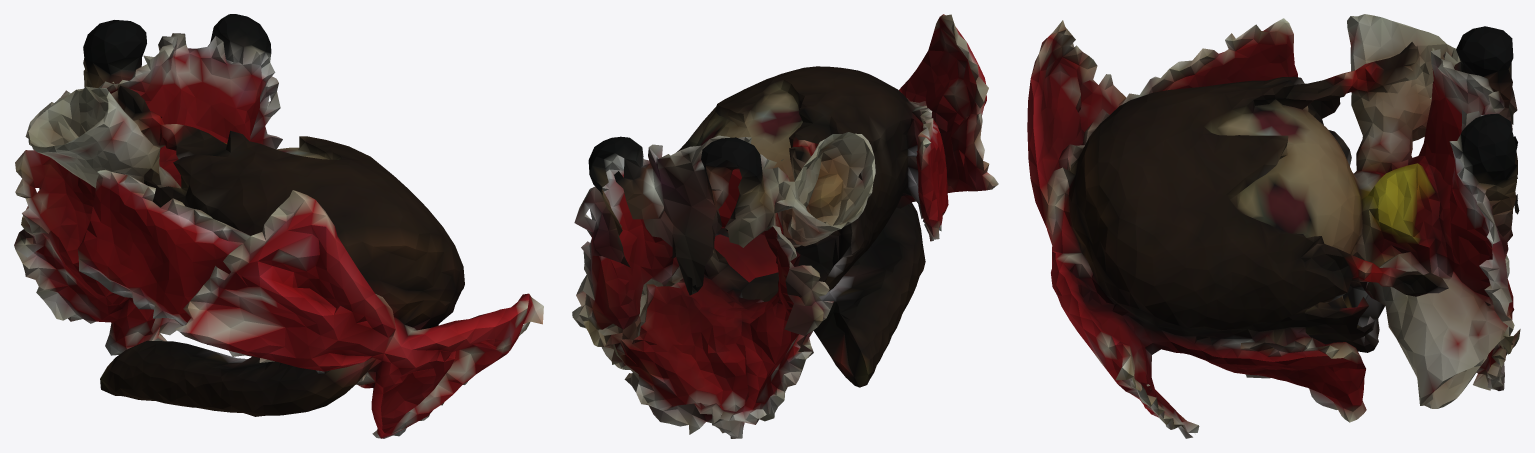
File: reimu_low.obj
3 views of the same model, side by side, from view 1: azimuth 30°, elevation 25°; view 2: azimuth 150°, elevation 25°; view 3: azimuth 270°, elevation 25° (orthographic). The views are drawn at different scales.
Visible parts, largest first — view 1: default; view 2: default; view 3: default.
Boxes of the visible parts, x1=… form: default: x1=14, y1=14, x2=543, y2=438; default: x1=572, y1=14, x2=998, y2=438; default: x1=1027, y1=14, x2=1520, y2=438.
Size of the model in its own units: 24.36 by 20.67 by 26.83.
